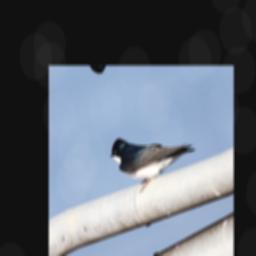Swallow: (106, 108, 200, 201)
